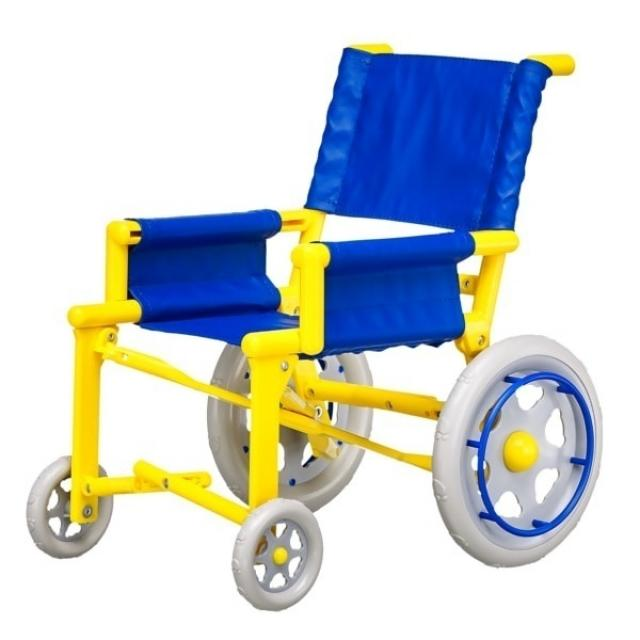wheelchair: (11, 34, 610, 613)
